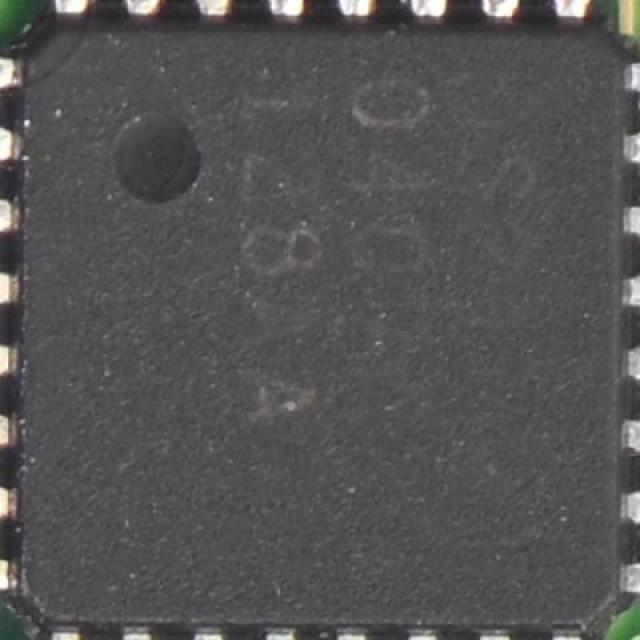IC: (10, 13, 634, 640)
